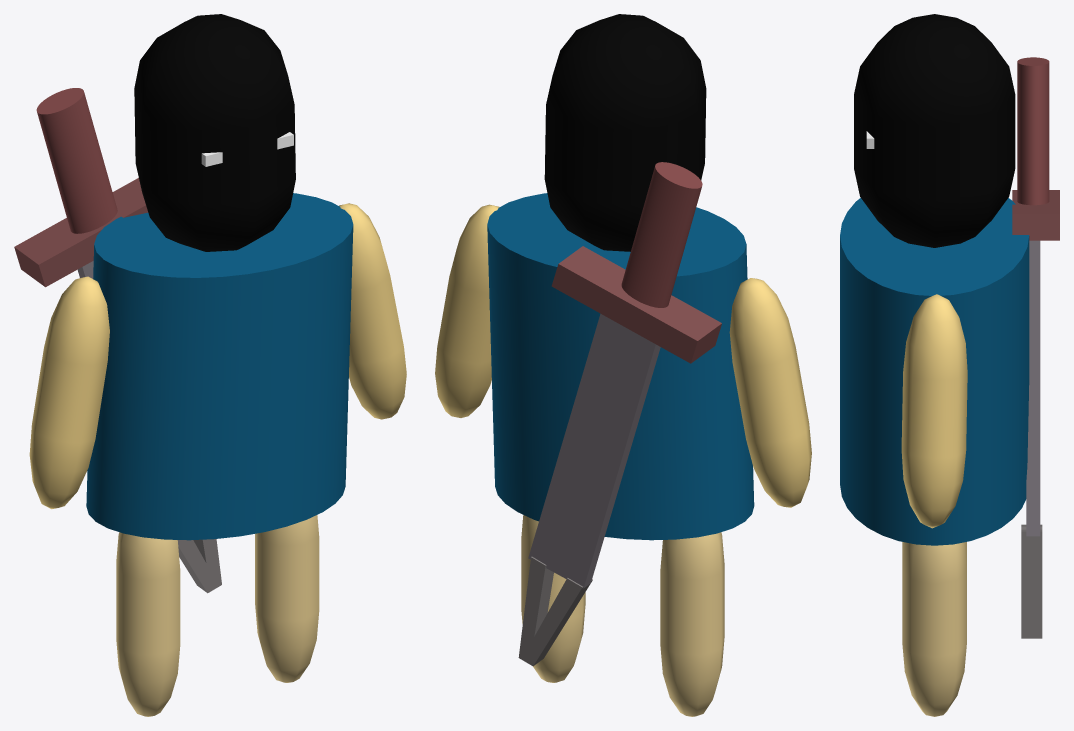
Rendered from player.glb.
The picture shows the model from 3 angles, left to right: view 1: azimuth 30°, elevation 25°; view 2: azimuth 150°, elevation 25°; view 3: azimuth 270°, elevation 25°; orthographic projection. The views are drawn at different scales.
Parts seen in each view (by area): view 1: body, head, left_arm, left_leg, right_leg, right_arm, Cylinder, Box_1, Text_1; view 2: body, head, Box, left_arm, left_leg, right_arm, Box_1, Cylinder, Text_1, right_leg; view 3: body, head, right_arm, right_leg, Cylinder, Box, Text_1, Box_1.
Part boxes in pixels (x1=…): body: x1=86, y1=193, x2=353, y2=540; head: x1=134, y1=14, x2=295, y2=251; left_arm: x1=29, y1=276, x2=109, y2=509; left_leg: x1=116, y1=532, x2=180, y2=716; right_leg: x1=255, y1=515, x2=319, y2=682; right_arm: x1=339, y1=203, x2=406, y2=419; Cylinder: x1=36, y1=88, x2=117, y2=233; Box_1: x1=14, y1=178, x2=148, y2=287; Text_1: x1=177, y1=539, x2=221, y2=593; body: x1=487, y1=193, x2=754, y2=540; head: x1=544, y1=14, x2=706, y2=251; Box: x1=528, y1=313, x2=660, y2=588; left_arm: x1=729, y1=278, x2=811, y2=507; left_leg: x1=660, y1=532, x2=724, y2=716; right_arm: x1=435, y1=204, x2=499, y2=417; Box_1: x1=551, y1=246, x2=721, y2=363; Cylinder: x1=621, y1=162, x2=702, y2=307; Text_1: x1=518, y1=556, x2=592, y2=666; right_leg: x1=521, y1=515, x2=585, y2=682; body: x1=840, y1=198, x2=1029, y2=545; head: x1=854, y1=14, x2=1015, y2=247; right_arm: x1=901, y1=294, x2=967, y2=528; right_leg: x1=902, y1=542, x2=966, y2=716; Cylinder: x1=1017, y1=57, x2=1049, y2=205; Box: x1=1026, y1=240, x2=1040, y2=536; Text_1: x1=1021, y1=524, x2=1042, y2=638; Box_1: x1=1012, y1=190, x2=1059, y2=240.
Size of the model in its own units: 1.29 by 2.26 by 0.6811.
